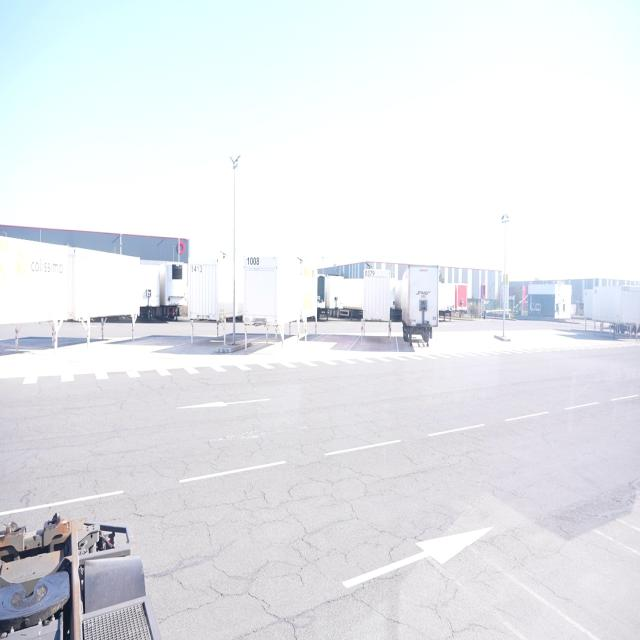Code: (188, 262, 206, 277), (245, 253, 261, 268), (364, 268, 378, 282)
